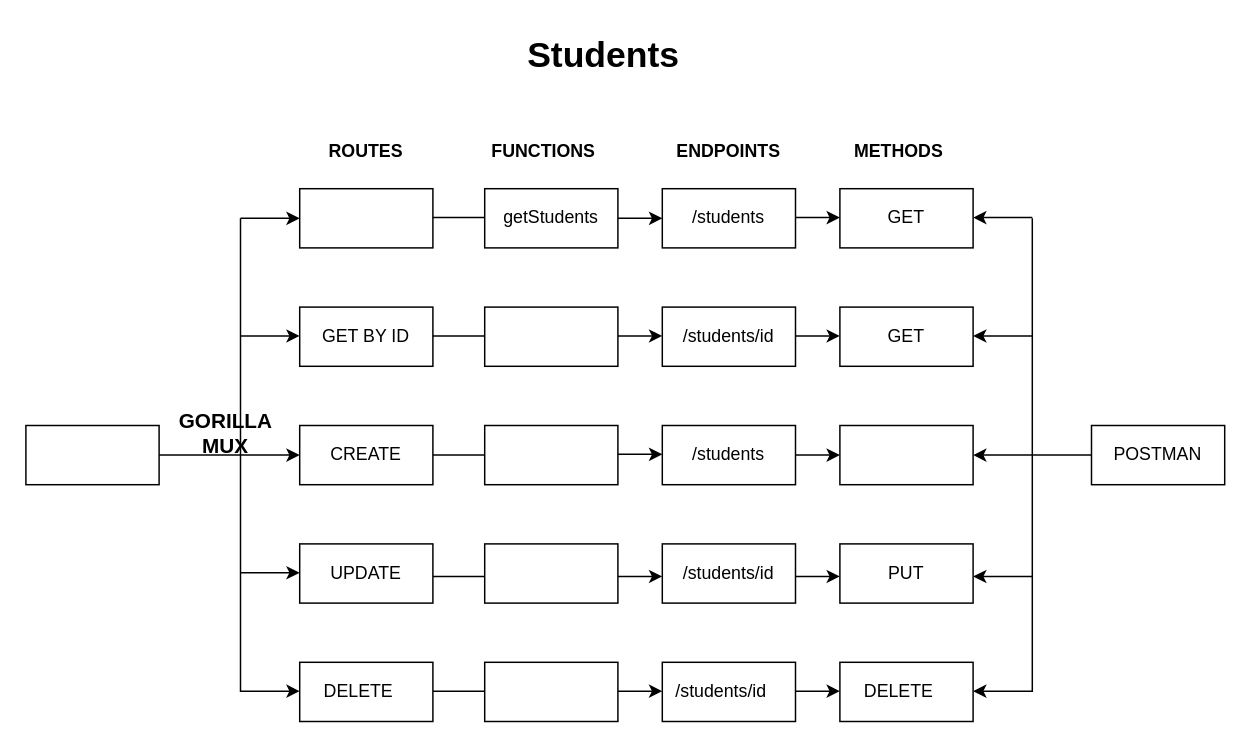
This 1251x747 diagram has some shape labels left out. The centre of each missing label's shape, as x and y in pixels:
"createStudent" goes at [550,454].
"deleteStudent" goes at [550,691].
"GET ALL" goes at [365,217].
"getStudent" goes at [550,336].
"POST" goes at [905,454].
"STUDENTS SERVER" goes at [91,454].
"updateStudent" goes at [550,572].
